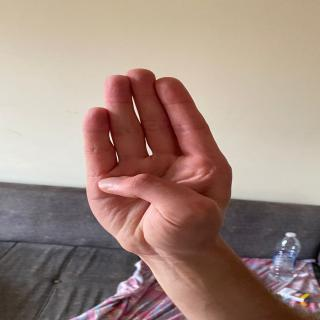KAAF: (75, 63, 238, 240)
